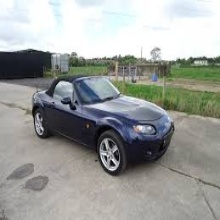no damage: (32, 73, 176, 176)
